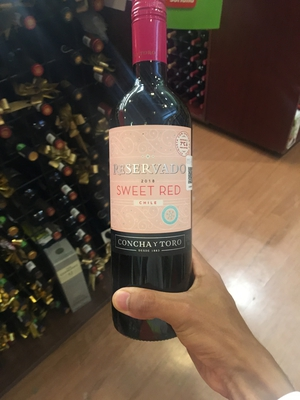reservado sweet red: (92, 13, 204, 340)
